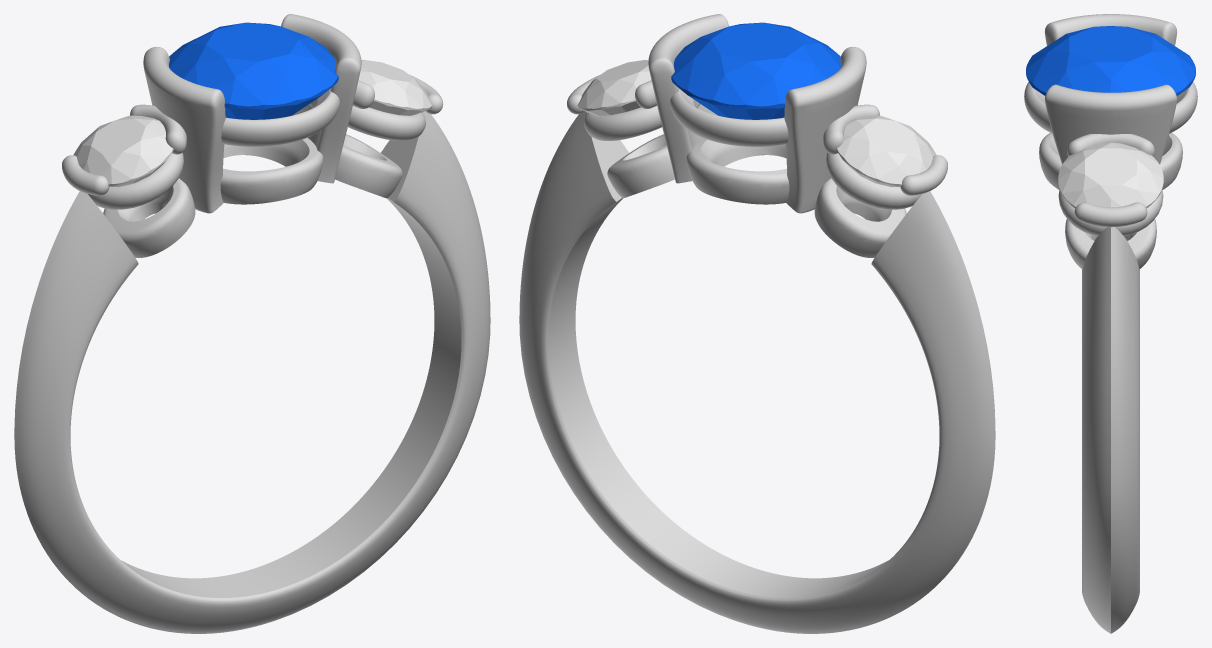
The model's file is bluesapphire-round-platinum-halfmoonbezel-knifeedge-2stone.glb.
3 renders of one model, left to right at view 1: azimuth 30°, elevation 25°; view 2: azimuth 150°, elevation 25°; view 3: azimuth 270°, elevation 25°, orthographic. The views are drawn at different scales.
Parts seen in each view (by area): view 1: metal, stone, side, side.001; view 2: metal, stone, side, side.001; view 3: metal, stone, side.001.
Part boxes in pixels (bbox=[...]): metal: bbox=[14, 14, 490, 633]; stone: bbox=[169, 22, 338, 119]; side: bbox=[73, 115, 173, 187]; side.001: bbox=[358, 60, 432, 115]; metal: bbox=[519, 14, 995, 633]; stone: bbox=[671, 22, 840, 119]; side: bbox=[836, 115, 936, 186]; side.001: bbox=[577, 60, 651, 115]; metal: bbox=[1024, 14, 1197, 633]; stone: bbox=[1026, 26, 1195, 95]; side.001: bbox=[1058, 142, 1163, 208].
Size of the model in its own units: 20.1 by 23.61 by 6.58.
